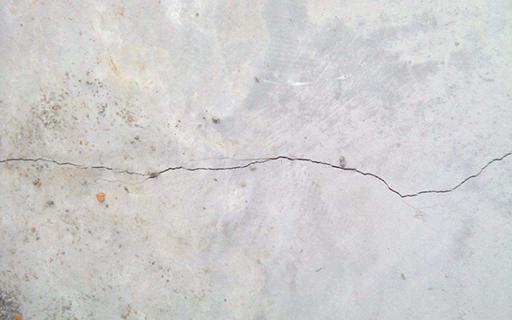Crack: (1, 154, 512, 199)
